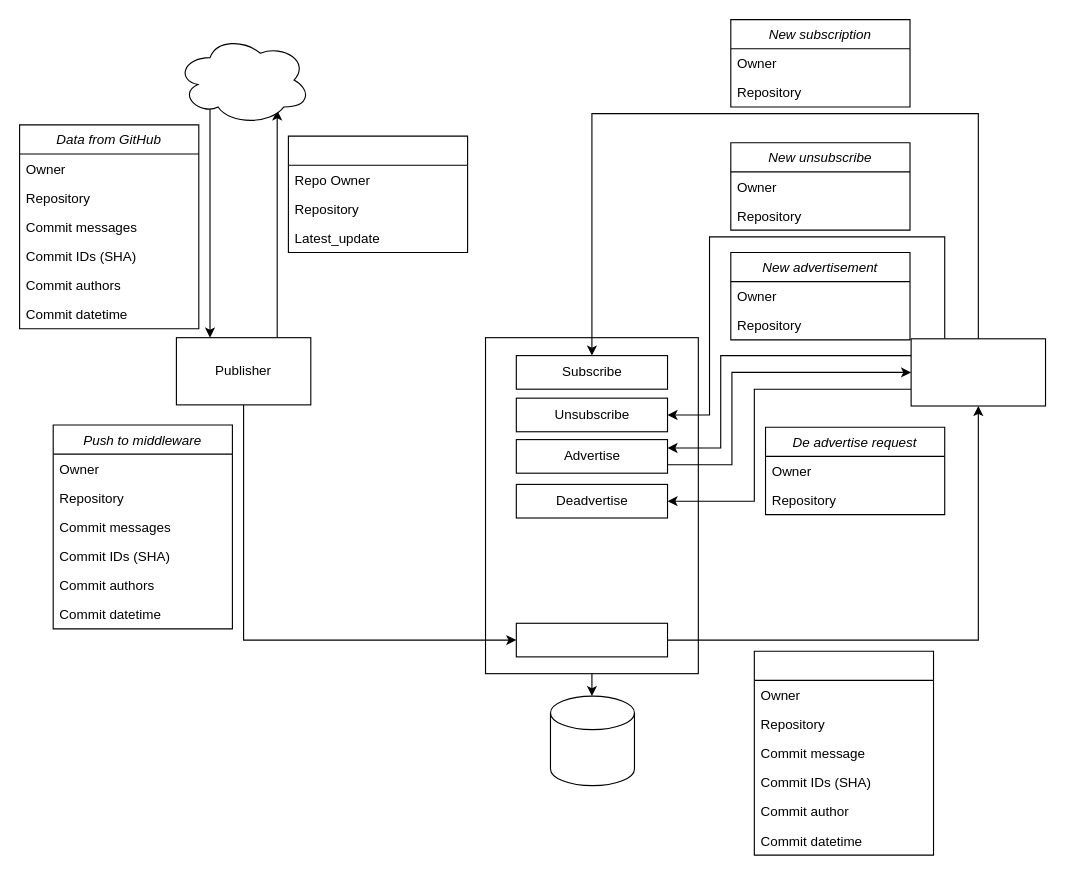
The diagram is 1065 pixels wide and 878 high, and some of its shapes have lost their labels. The box of each missing label's shape, as (x1, y1, x2, y2) in pixels:
API Call to GitHub: (287, 135, 468, 253)
Commit and Notification push: (515, 622, 668, 657)
Database: (549, 695, 634, 786)
GitHub.com: (175, 34, 311, 125)
Notification to subscriber: (753, 650, 934, 855)
Subscriber: (910, 338, 1046, 406)
